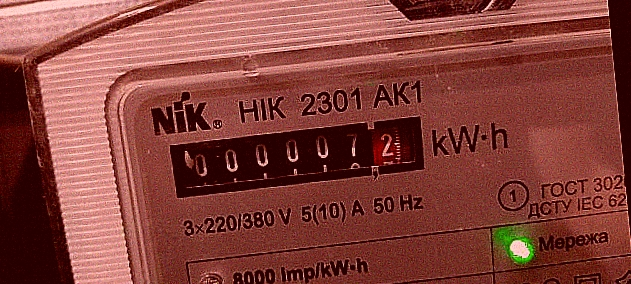0: (251, 140, 272, 169), (221, 145, 241, 175), (191, 150, 210, 179), (313, 131, 331, 161), (283, 135, 300, 164)
2: (378, 129, 396, 160)
7: (342, 130, 361, 160)
screen: (160, 106, 438, 204)
